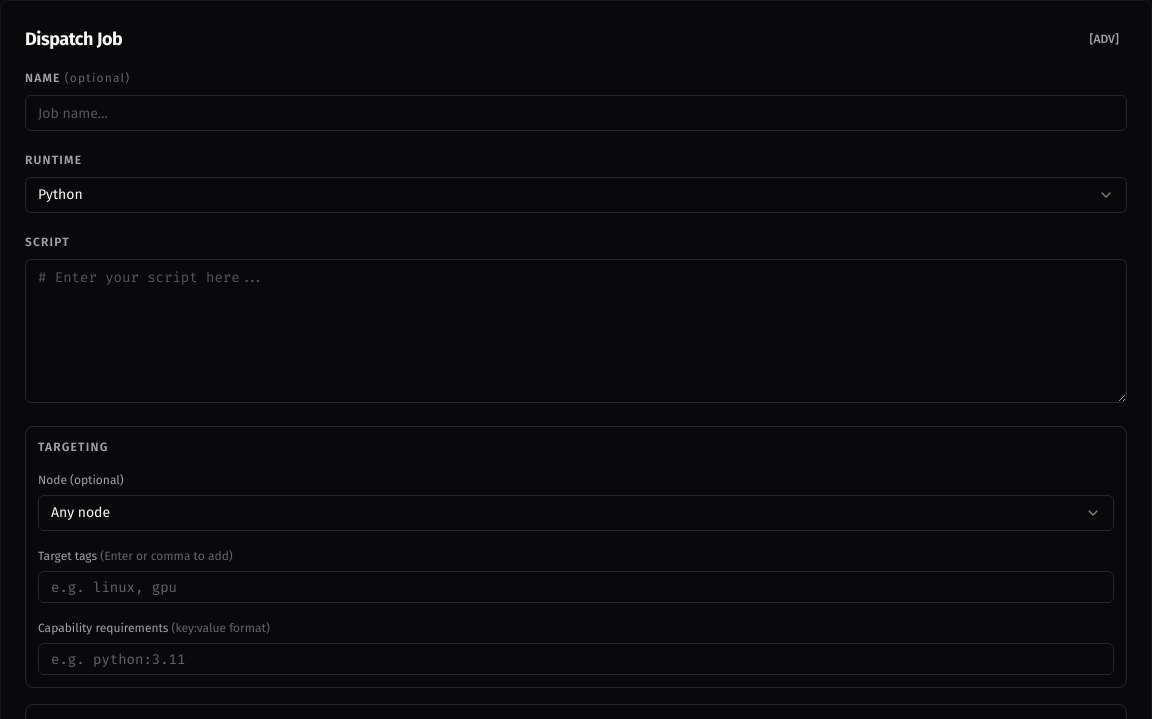
Test: GuidedDispatchCard › confirming Advanced mode pre-fills JSON editor with serialised guided form values
# Fill in a name so the payload has something identifiable
Type "test-job" into the field with placeholder "Job name..." at (576, 113), box [25,95,1127,131]
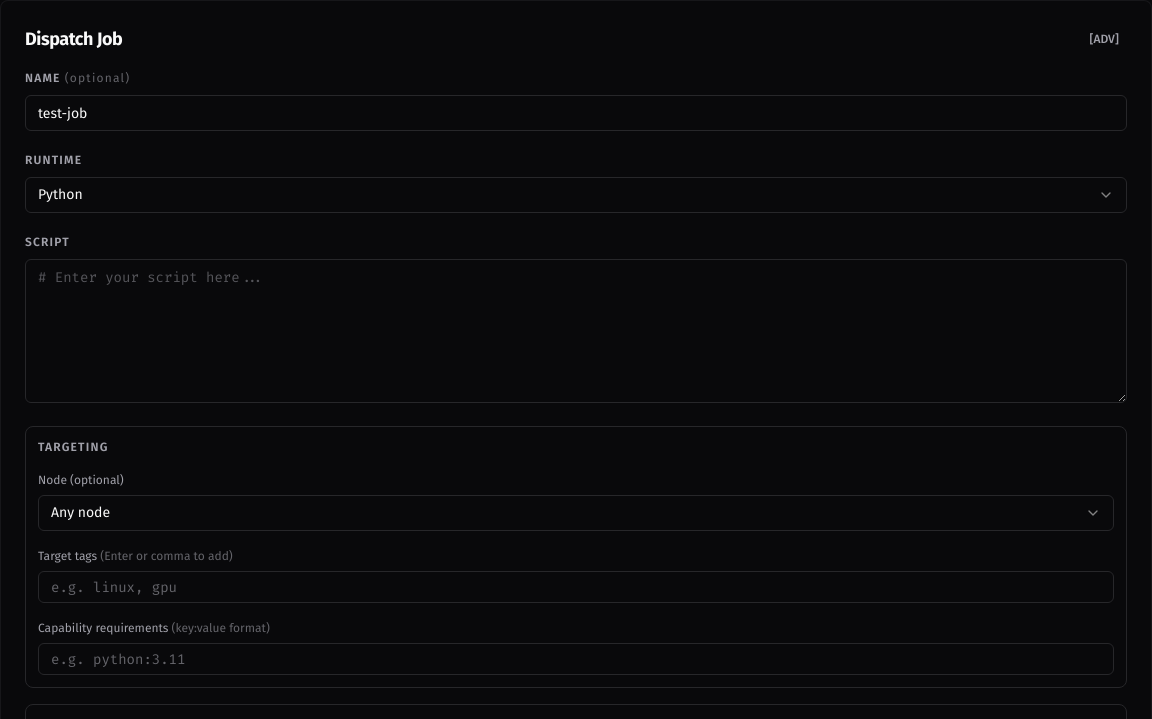
# Click ADV
Click the button with aria-label "advanced mode" at (1104, 39), box [1081,25,1127,53]
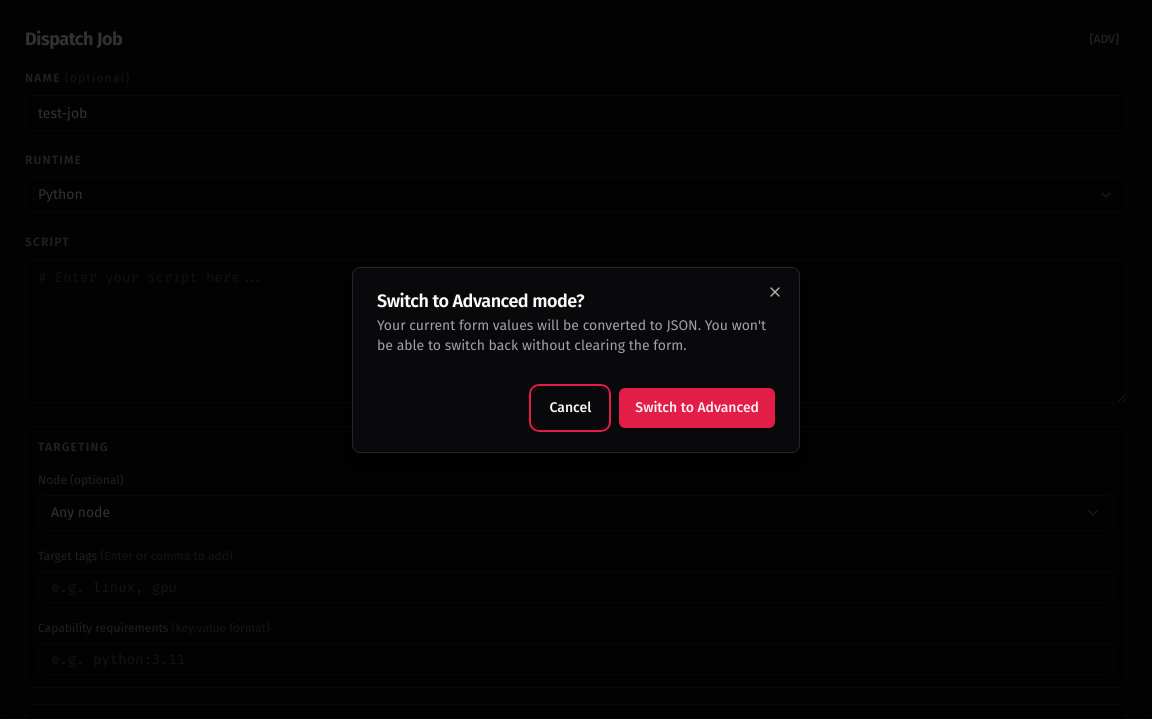
expect the heading "Switch to Advanced mode?" is shown: met, box [377,290,584,312]
# Confirm switch
Click the button "Switch to Advanced" at (697, 408), box [619,388,775,428]
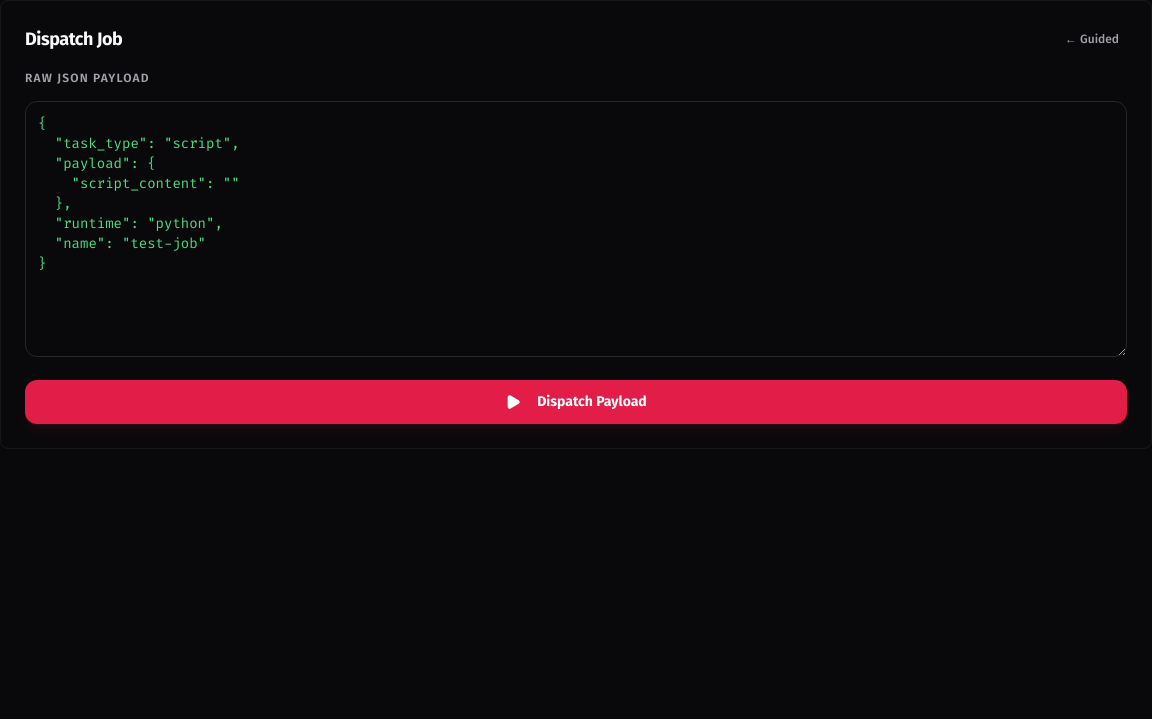
expect the text box named "advanced json payload" is shown: met, box [25,101,1127,357]
